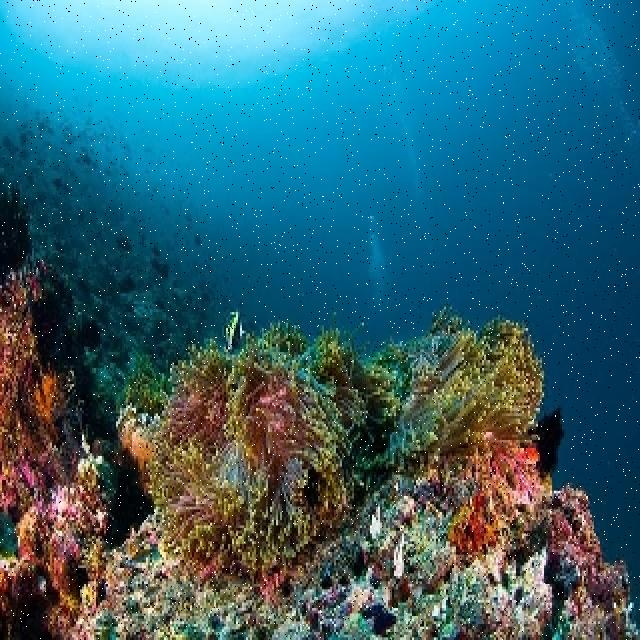fish: (225, 311, 245, 351)
reefs: (142, 295, 546, 592)
